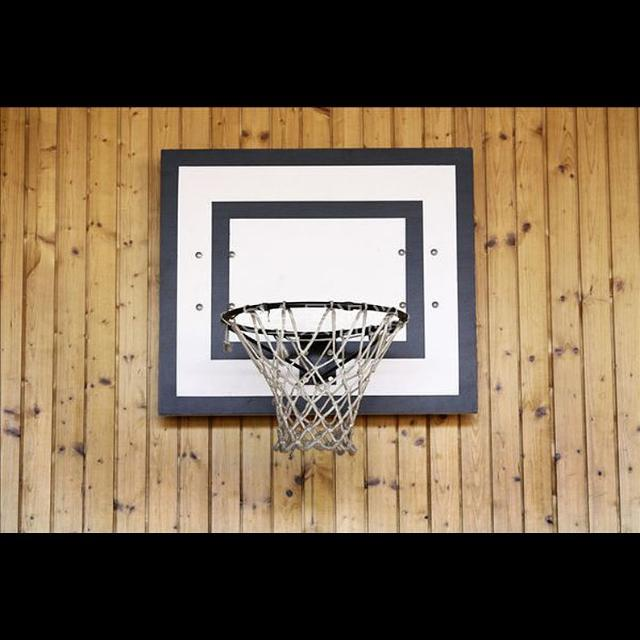rim: (222, 300, 408, 452)
